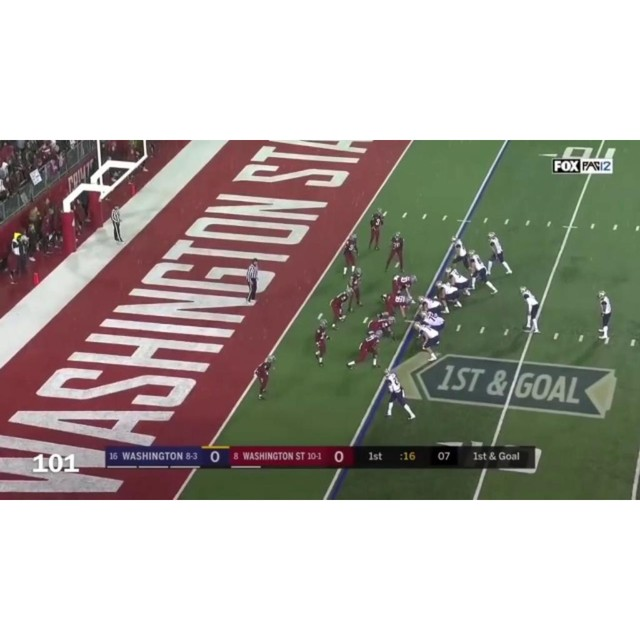american-football-player: (383, 369, 416, 420), (348, 329, 385, 370), (467, 250, 497, 296), (383, 274, 418, 307), (487, 231, 513, 275), (413, 321, 440, 361), (519, 285, 541, 334), (329, 288, 354, 328), (254, 355, 276, 400), (435, 280, 464, 312), (381, 293, 412, 321), (597, 289, 613, 343), (385, 231, 405, 272), (365, 316, 396, 341), (314, 319, 330, 367), (418, 309, 447, 335), (446, 266, 471, 296), (342, 233, 359, 277), (369, 208, 385, 251), (450, 236, 470, 270), (416, 294, 445, 317), (349, 268, 364, 308)
referee: (245, 258, 260, 305), (109, 204, 124, 244)
